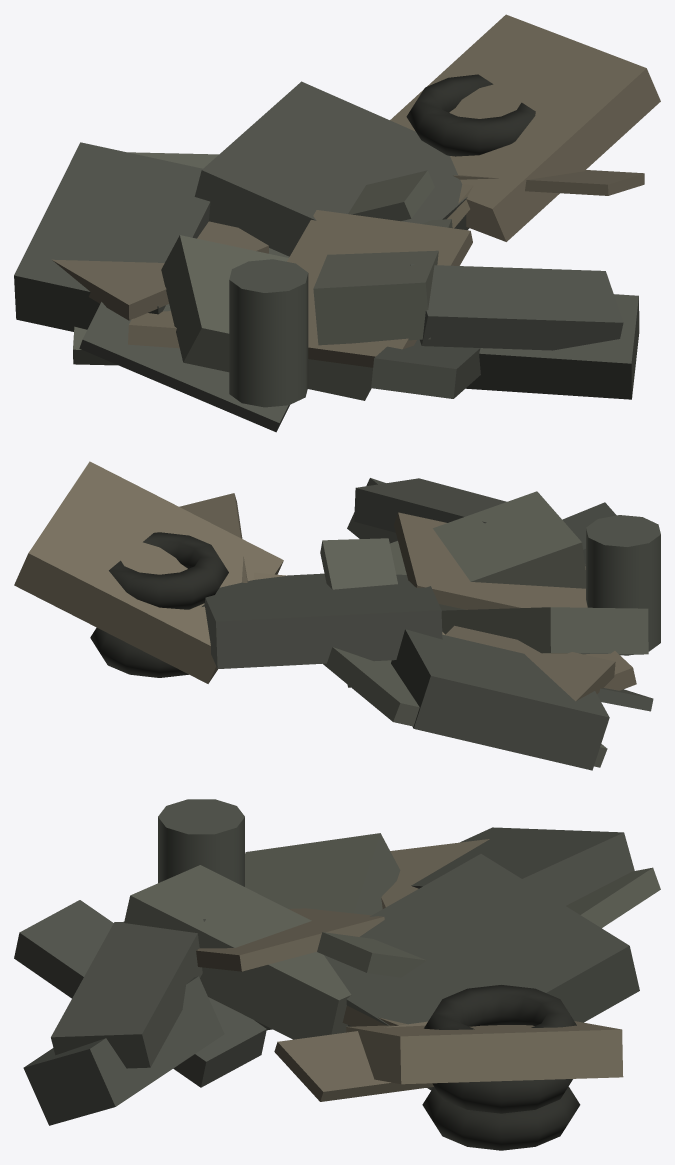
Rendered from junk.glb.
3 renders of one model, top to bottom at view 1: azimuth 30°, elevation 25°; view 2: azimuth 150°, elevation 25°; view 3: azimuth 270°, elevation 25°, orthographic. The views are drawn at different scales.
Parts seen in each view (by area): view 1: junk; view 2: junk; view 3: junk.
Boxes of the visible parts, left/top/right/bottom form: junk: left=14, top=14, right=660, bottom=432; junk: left=14, top=461, right=660, bottom=770; junk: left=14, top=799, right=660, bottom=1150.
Bounding box in the file's own units: 5.54 × 1.7 × 4.75.
